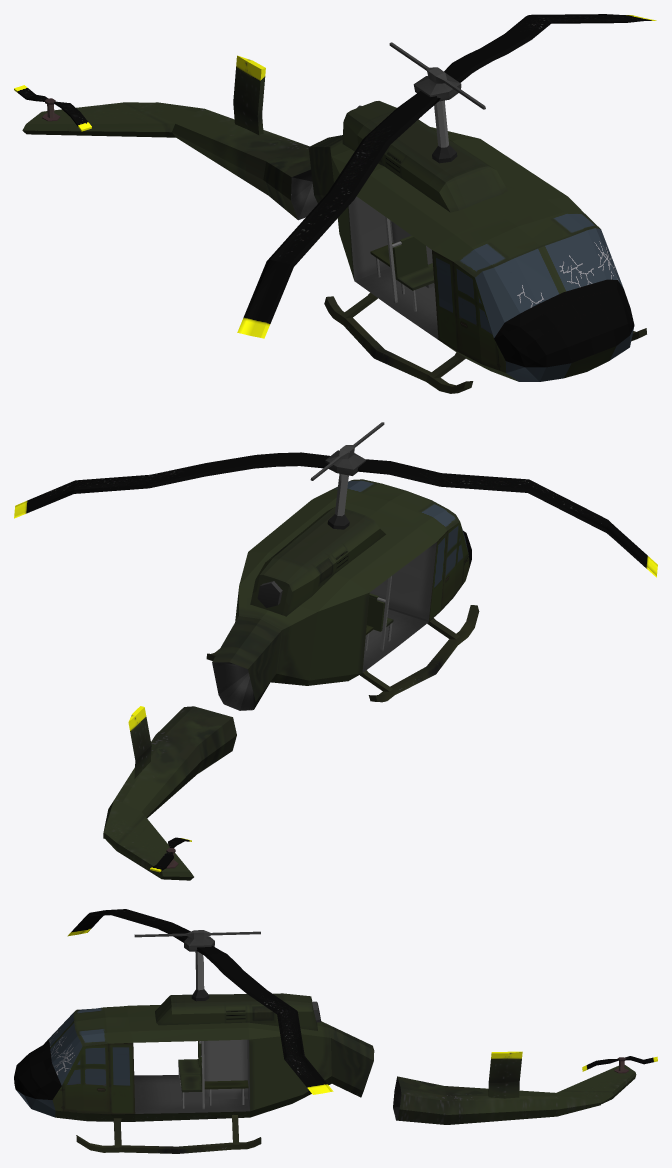
File: Vehicle_UH1Crash.fbx
3 renders of one model, top to bottom at view 1: azimuth 30°, elevation 25°; view 2: azimuth 150°, elevation 25°; view 3: azimuth 270°, elevation 25°, orthographic. The views are drawn at different scales.
Visible parts, largest first — view 1: Cube.001_Cube.009_Cube.001_Cube.010_Cube.001_Cube.009_Cube..; view 2: Cube.001_Cube.009_Cube.001_Cube.010_Cube.001_Cube.009_Cube..; view 3: Cube.001_Cube.009_Cube.001_Cube.010_Cube.001_Cube.009_Cube...
Part boxes in pixels (bbox=[...]): Cube.001_Cube.009_Cube.001_Cube.010_Cube.001_Cube.009_Cube..: bbox=[14, 14, 656, 393]; Cube.001_Cube.009_Cube.001_Cube.010_Cube.001_Cube.009_Cube..: bbox=[14, 422, 657, 880]; Cube.001_Cube.009_Cube.001_Cube.010_Cube.001_Cube.009_Cube..: bbox=[14, 909, 657, 1153].
Bounding box in the file's own units: 3445 × 1445 × 4625.
